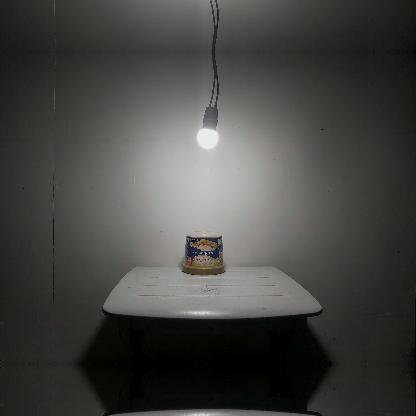Lady-s-Choice: (182, 230, 224, 274)
